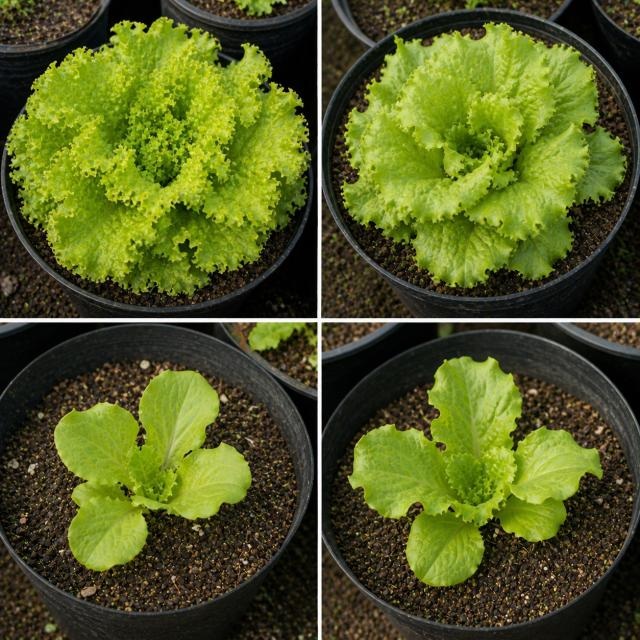inmadura: (348, 356, 602, 586), (55, 370, 251, 570)
lista_para_cosechar: (5, 17, 310, 297), (341, 22, 626, 287)
